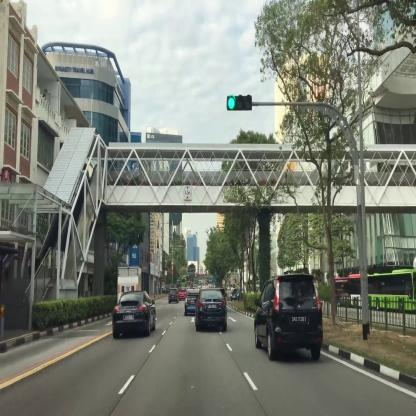green_traffic_light: (228, 95, 250, 110)
